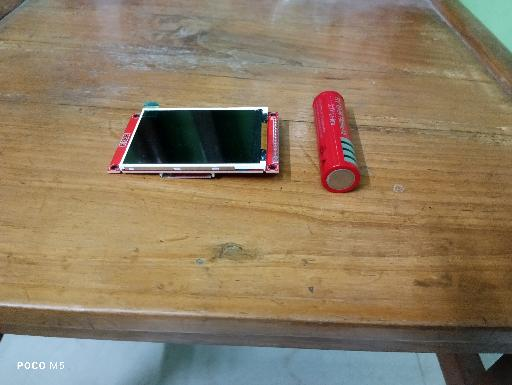Battery: (312, 90, 360, 193)
Display: (107, 106, 280, 179)
